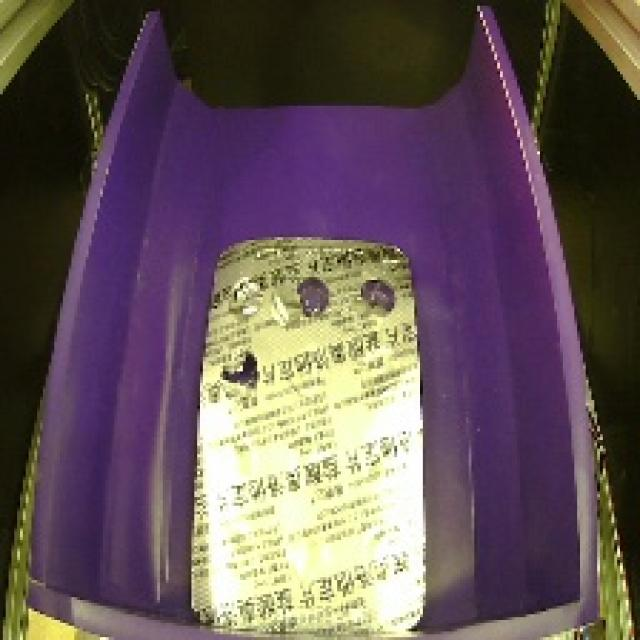med_plate: (182, 221, 442, 640)
